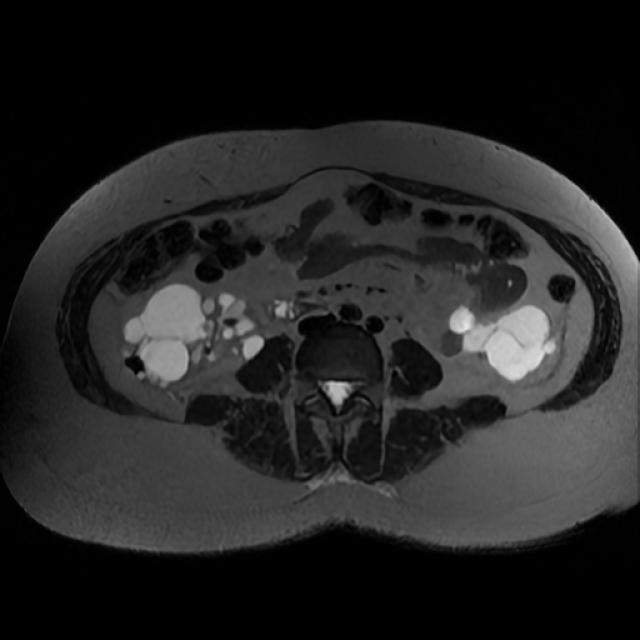sag: (120, 283, 266, 390)
sol: (440, 303, 559, 385)
